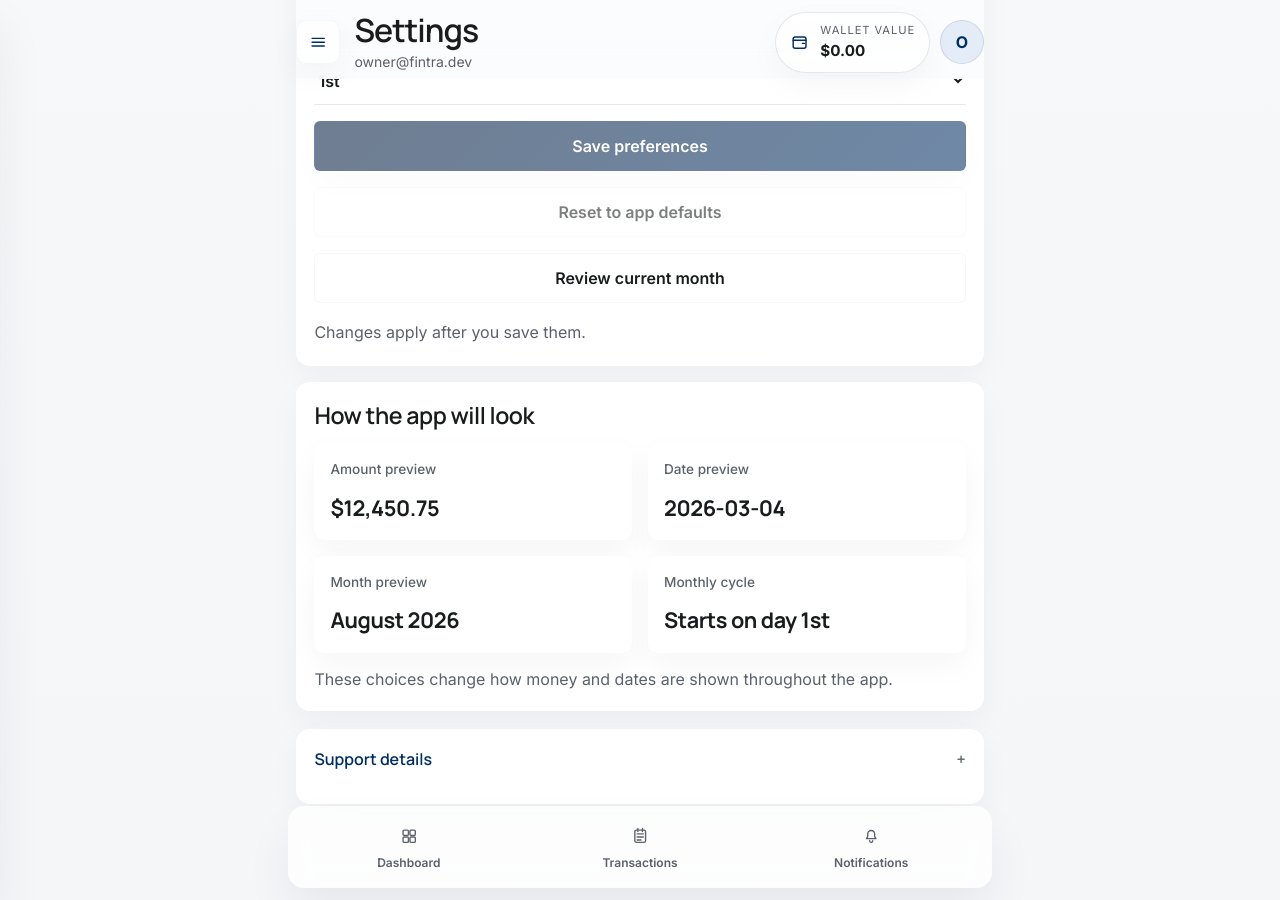
Test: SettingsPage › shows support details without surfacing technical implementation labels
(page scrolled)
Step 1. Click the heading "Support details" → (373, 759), box [314, 748, 432, 770]
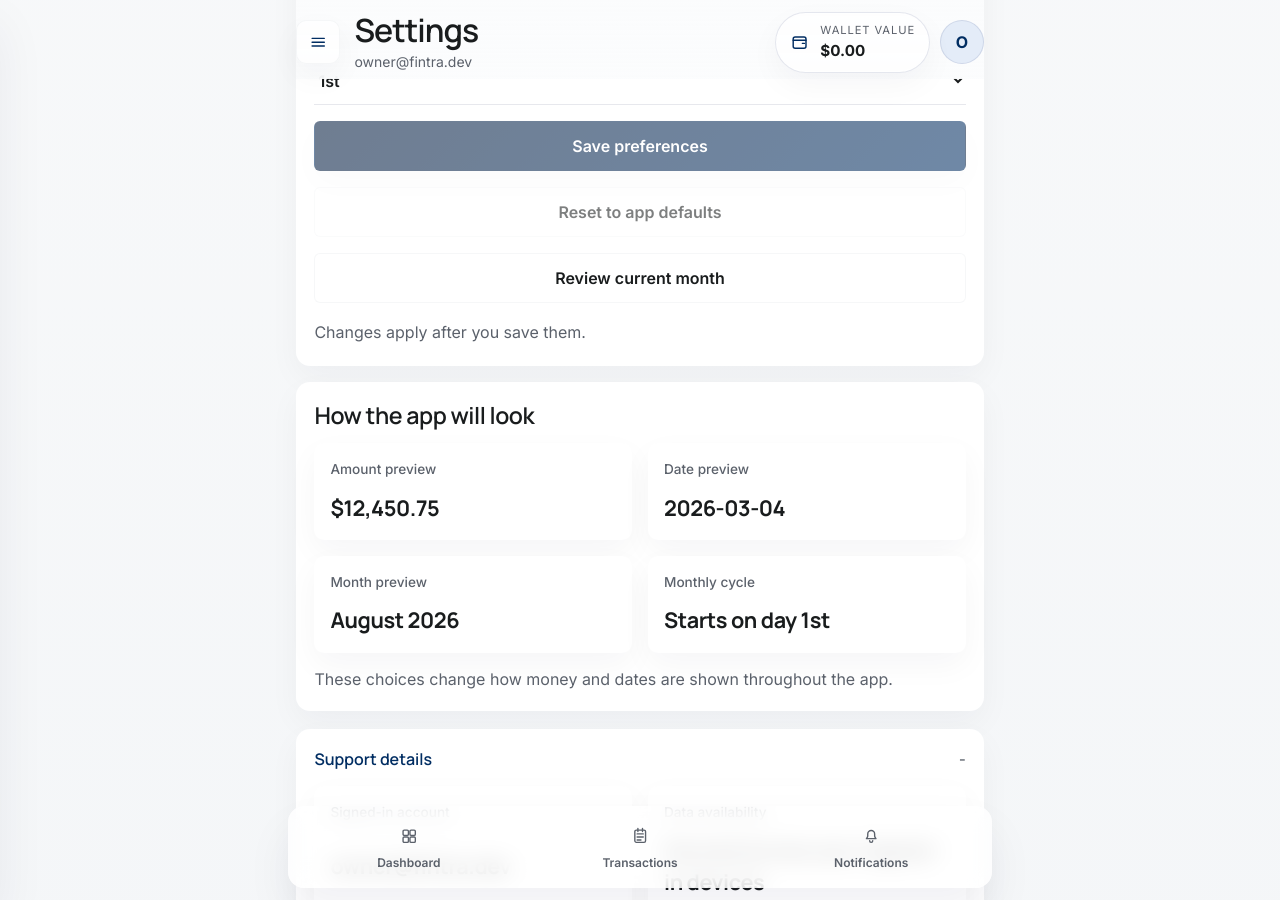
Expected: the text "Synced across your signed-in devices" is shown, [664, 834, 950, 899]
